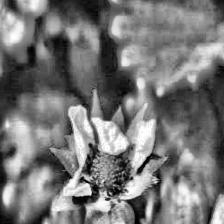Blossom Blight: (76, 141, 138, 202)
